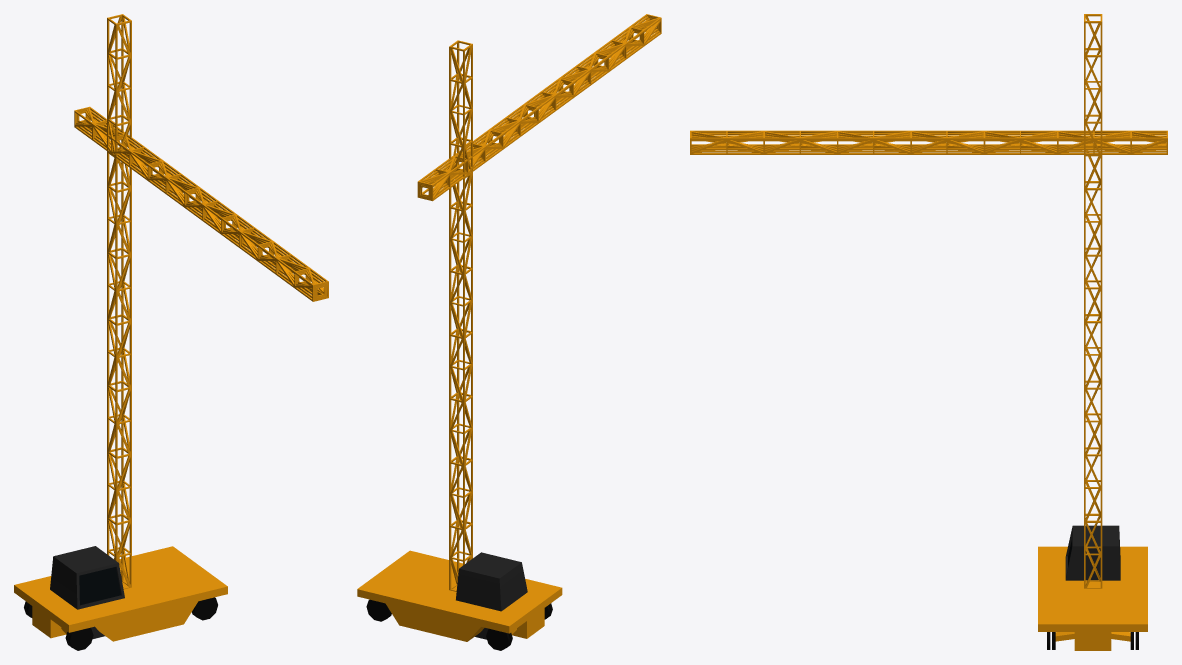
File: Crane.fbx
3 renders of one model, left to right at view 1: azimuth 30°, elevation 25°; view 2: azimuth 150°, elevation 25°; view 3: azimuth 270°, elevation 25°, orthographic. The views are drawn at different scales.
Parts seen in each view (by area): view 1: Crane, Base, Arrow_1, Cabinka, Arrow_2, Arrow_3; view 2: Base, Crane, Arrow_1, Cabinka, Arrow_2, Arrow_3; view 3: Base, Crane, Arrow_1, Arrow_3, Arrow_2, Cabinka.
Part boxes in pixels (x1,y1,x2,y2): Crane: (107, 14, 131, 589); Base: (14, 546, 227, 650); Arrow_1: (74, 106, 328, 301); Cabinka: (50, 546, 124, 638); Arrow_2: (76, 109, 327, 299); Arrow_3: (77, 111, 325, 297); Base: (357, 550, 562, 650); Crane: (449, 40, 472, 591); Arrow_1: (417, 14, 661, 201); Cabinka: (456, 552, 527, 639); Arrow_2: (419, 16, 659, 199); Arrow_3: (420, 18, 658, 197); Base: (1038, 546, 1147, 650); Crane: (1084, 14, 1102, 588); Arrow_1: (690, 130, 1167, 154); Arrow_3: (691, 135, 1166, 150); Arrow_2: (691, 133, 1166, 152); Cabinka: (1065, 525, 1120, 580).
Size of the model in its own units: 197 by 711 by 513.
